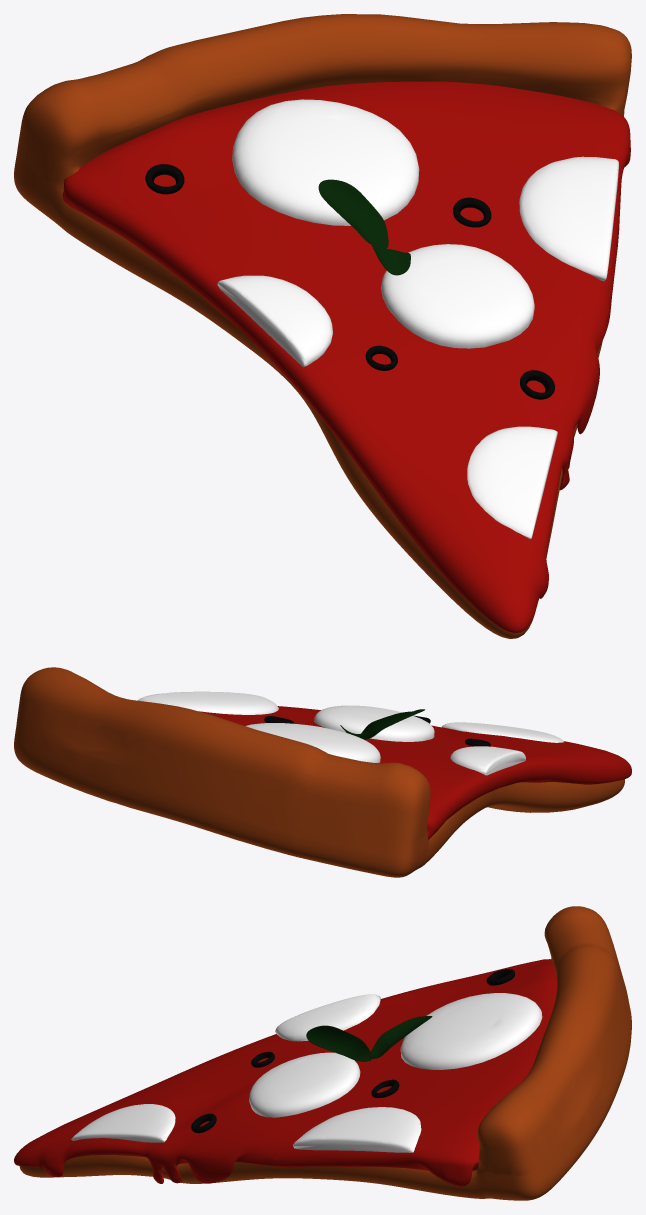
File: Pizza.fbx
The picture shows the model from 3 angles, top to bottom: view 1: azimuth 30°, elevation 25°; view 2: azimuth 150°, elevation 25°; view 3: azimuth 270°, elevation 25°; orthographic projection. The views are drawn at different scales.
Parts seen in each view (by area): view 1: Pomodoro, PastaPizza, Mozzarella, Foglie, Olive; view 2: PastaPizza, Pomodoro, Mozzarella, Foglie, Olive; view 3: Pomodoro, PastaPizza, Mozzarella, Foglie, Olive.
Part boxes in pixels (bbox=[...]): Pomodoro: bbox=[62, 81, 630, 633]; PastaPizza: bbox=[14, 14, 631, 638]; Mozzarella: bbox=[217, 99, 618, 539]; Foglie: bbox=[318, 179, 410, 275]; Olive: bbox=[145, 164, 554, 399]; PastaPizza: bbox=[14, 667, 624, 877]; Pomodoro: bbox=[199, 706, 631, 839]; Mozzarella: bbox=[137, 691, 563, 775]; Foglie: bbox=[340, 709, 424, 739]; Olive: bbox=[264, 715, 490, 746]; Pomodoro: bbox=[14, 959, 556, 1186]; PastaPizza: bbox=[19, 906, 631, 1200]; Mozzarella: bbox=[71, 993, 542, 1152]; Foglie: bbox=[306, 1016, 432, 1061]; Olive: bbox=[191, 969, 514, 1133].
Size of the model in its own units: 0.7383 by 0.4026 by 0.9407.
